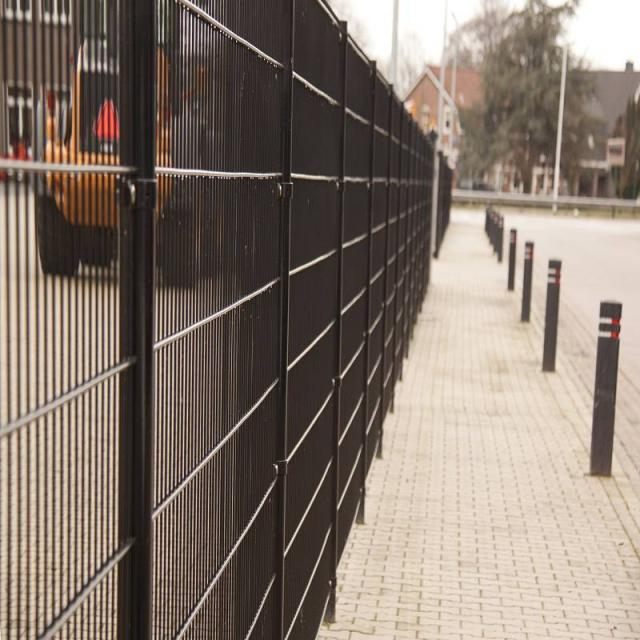fence line: (290, 50, 459, 459)
